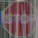Stop: (2, 5, 37, 33)
